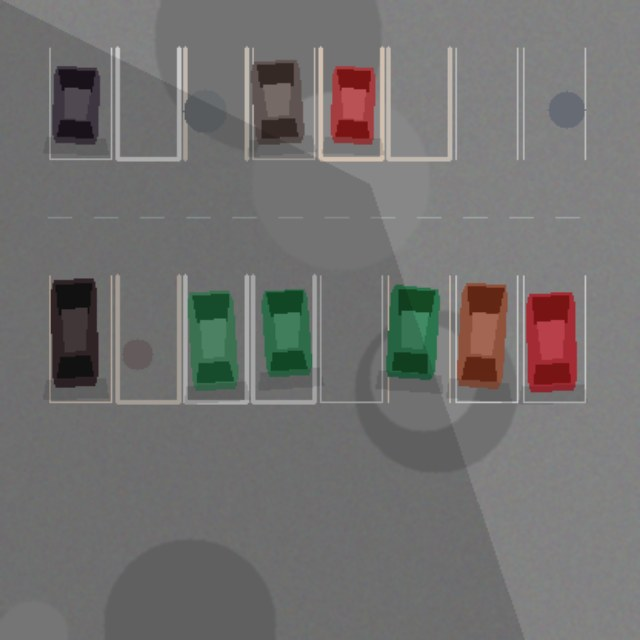space-empty: (320, 275, 382, 402), (117, 275, 178, 402), (455, 48, 517, 158), (523, 48, 585, 158), (117, 48, 178, 158), (185, 48, 246, 158), (388, 48, 449, 158)
space-occupied: (49, 275, 111, 402), (252, 275, 314, 402), (455, 275, 517, 402), (523, 275, 585, 402), (185, 275, 246, 402), (388, 275, 449, 402), (49, 48, 111, 158), (252, 48, 314, 158), (320, 48, 382, 158)
